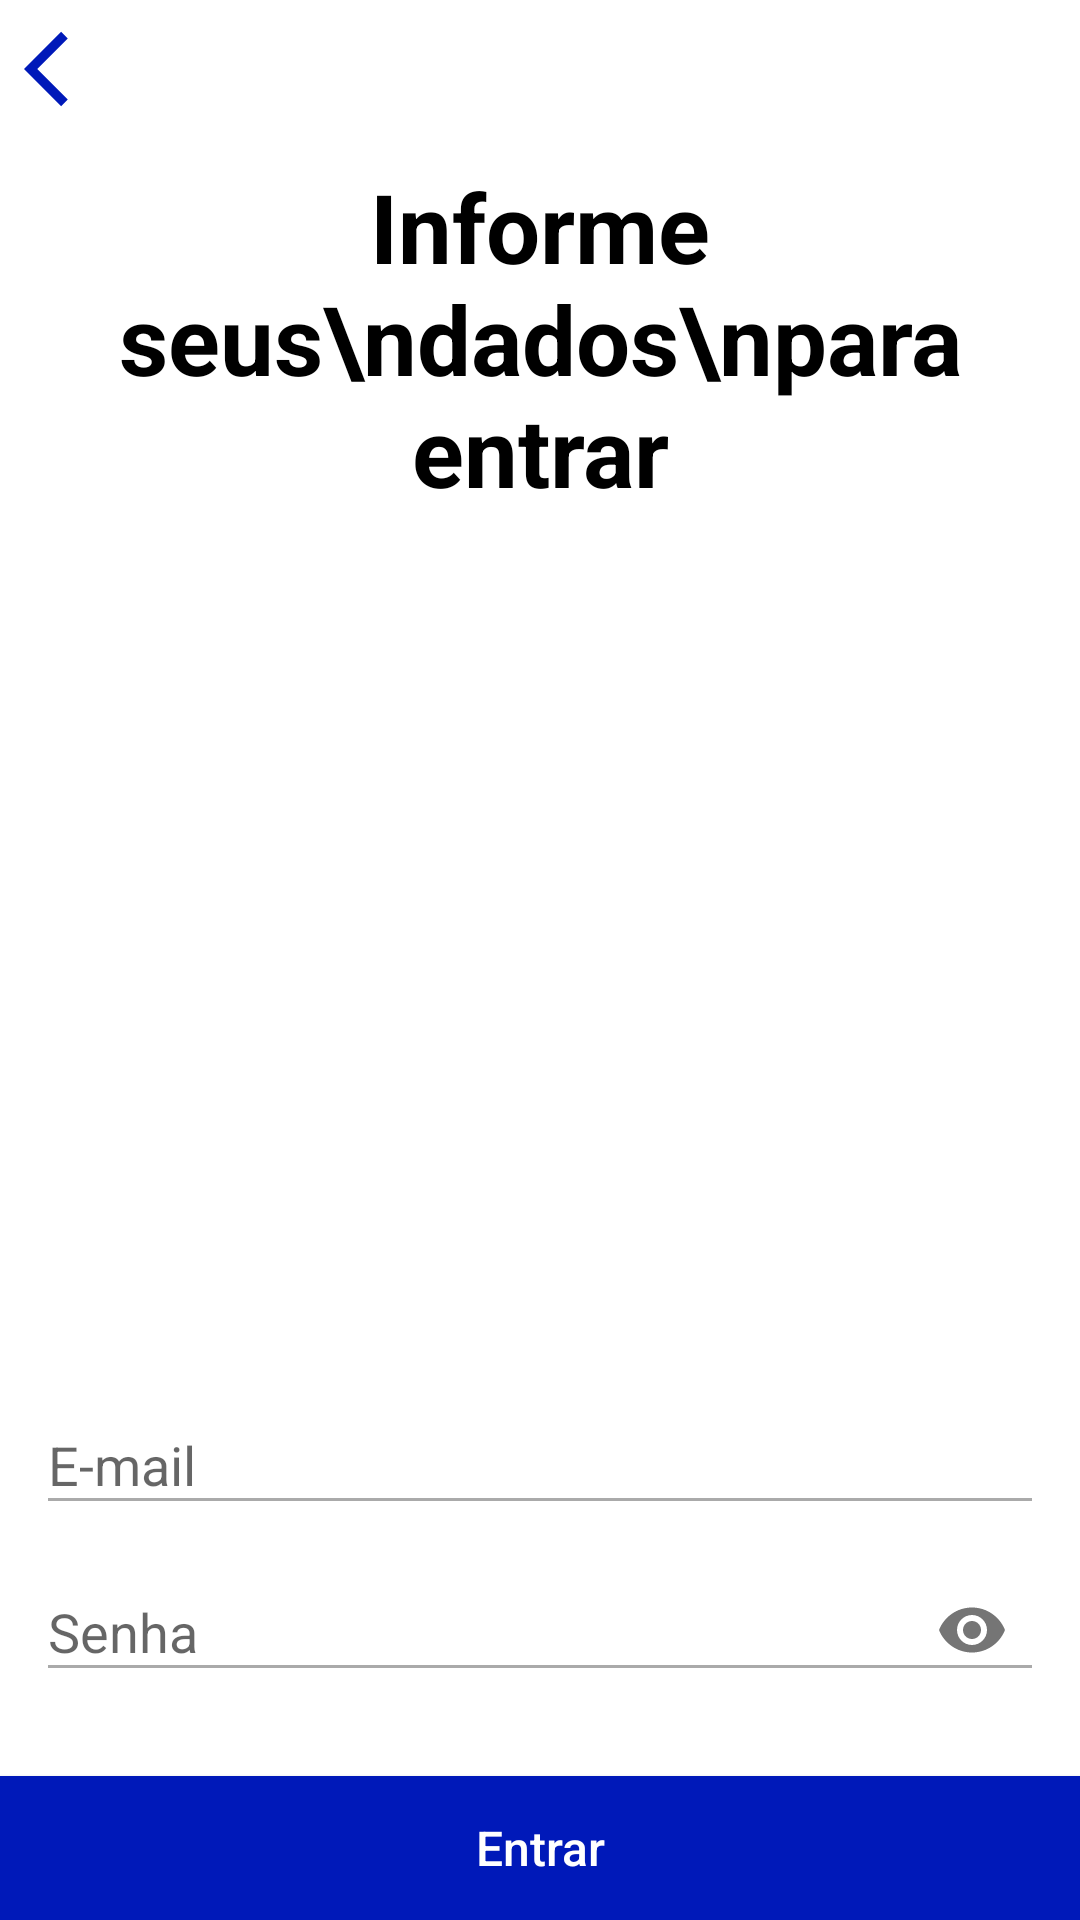

Icon click points for this 1080×1920 phone screenshot, format (x,y):
back: (46,69)
